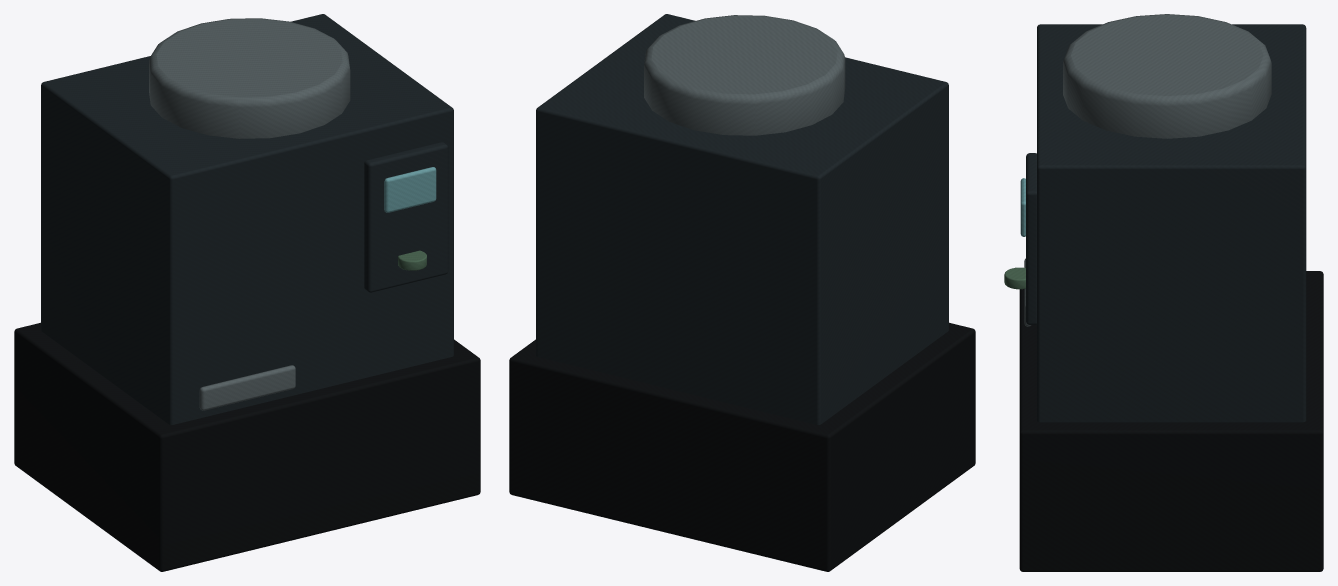
Rendered from LabCentrifuge.fbx.
3 views of the same model, side by side, from view 1: azimuth 30°, elevation 25°; view 2: azimuth 150°, elevation 25°; view 3: azimuth 270°, elevation 25° (orthographic). The views are drawn at different scales.
Parts seen in each view (by area): view 1: LabCentrifuge_Mesh; view 2: LabCentrifuge_Mesh; view 3: LabCentrifuge_Mesh.
Boxes of the visible parts, x1=… form: LabCentrifuge_Mesh: x1=14, y1=14, x2=480, y2=571; LabCentrifuge_Mesh: x1=509, y1=14, x2=975, y2=571; LabCentrifuge_Mesh: x1=1004, y1=14, x2=1323, y2=571.
Bounding box in the file's own units: 88 × 111 × 73.5.
5 materials, 5 textured.
